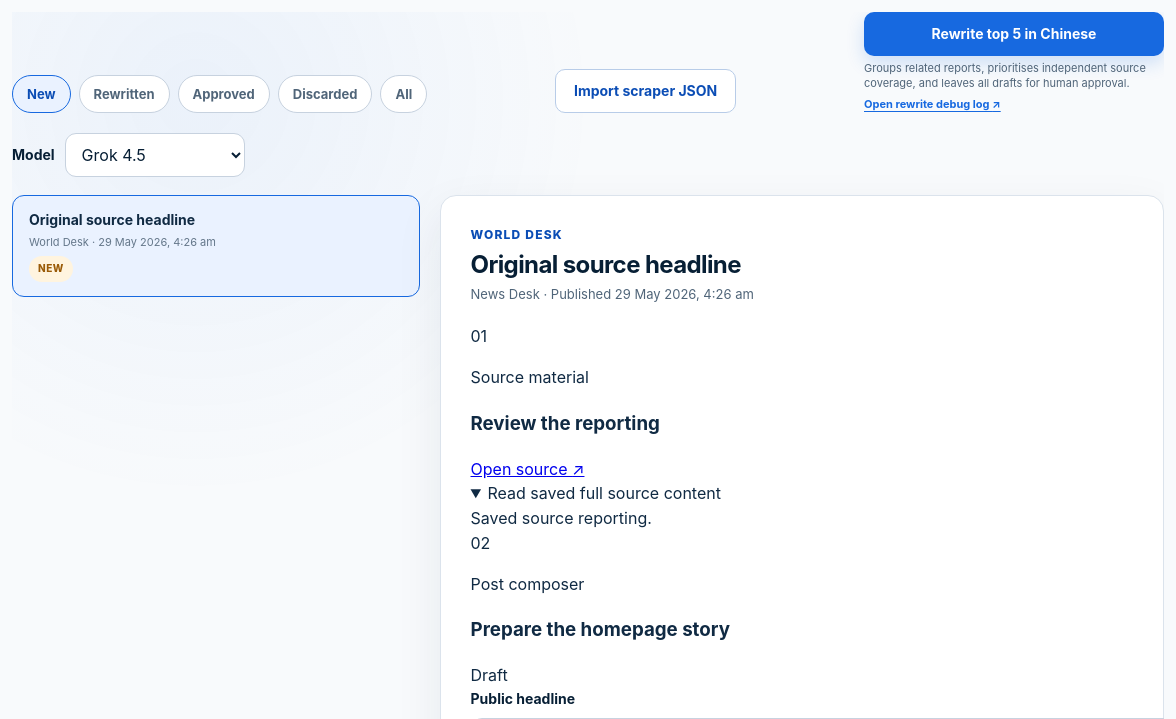
Scenario: PipelineWorkspace post composer › retries a retryable Top 5 story once and completes the batch
Expected: the heading "Original source headline" is shown, left=470, top=250, right=754, bottom=280
Click the button "Rewrite top 5 in Chinese". click: [1014, 34]
box: left=864, top=12, right=1164, bottom=56
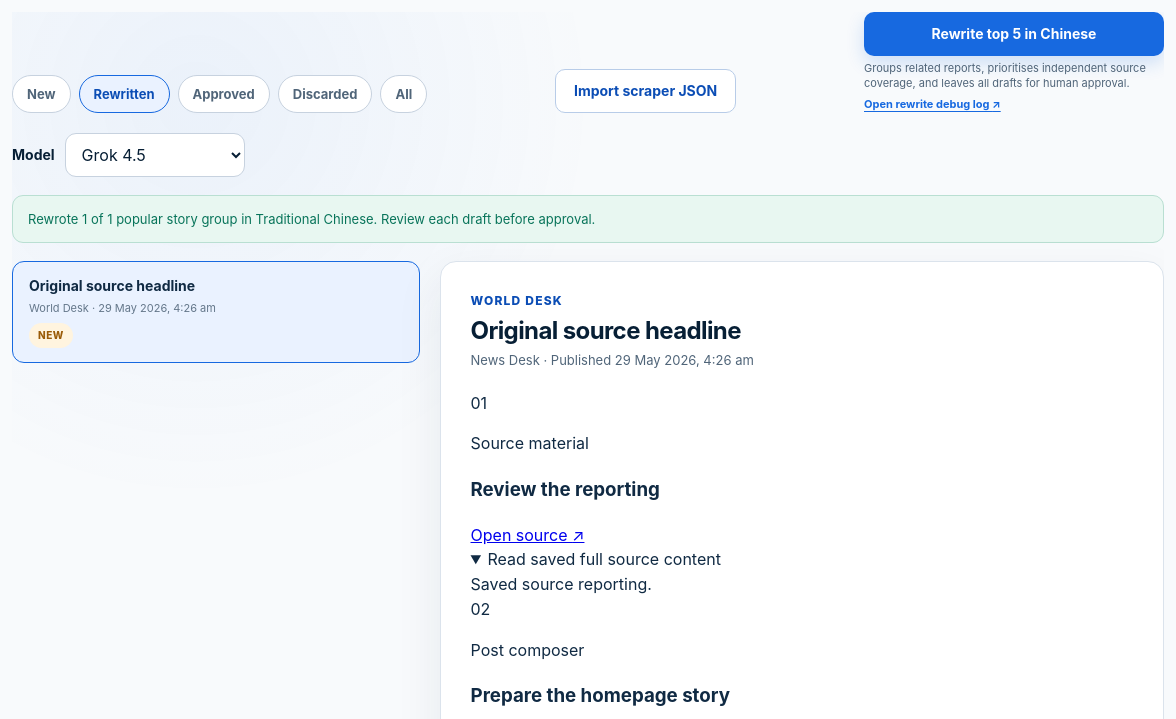
Expected: the text "Rewrote 1 of 1 popular story group" is shown, left=28, top=211, right=595, bottom=227
